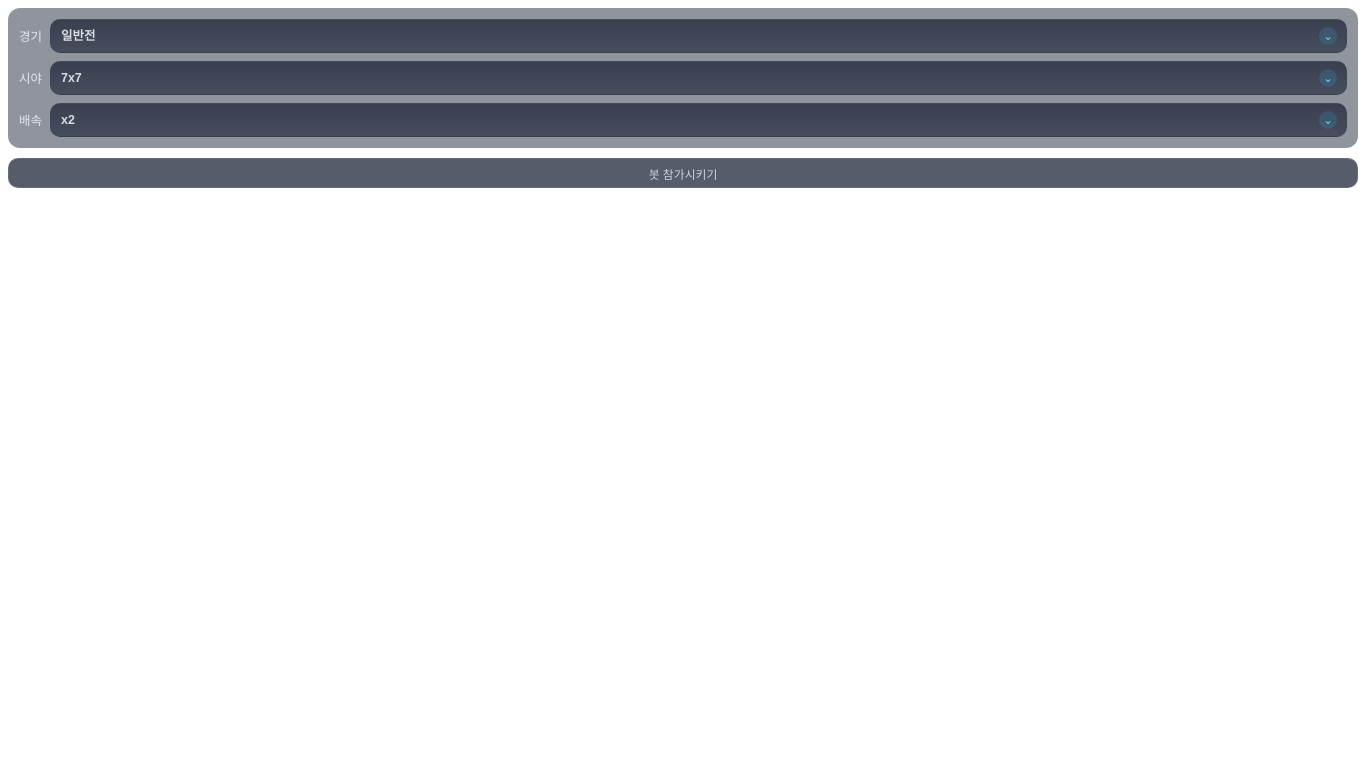
Test: HostControls › uses the spectator nickname as the default bot-name base when provided
Click the button with test id "toggle-bot-panel-button" at (683, 173), box [8,158,1358,188]
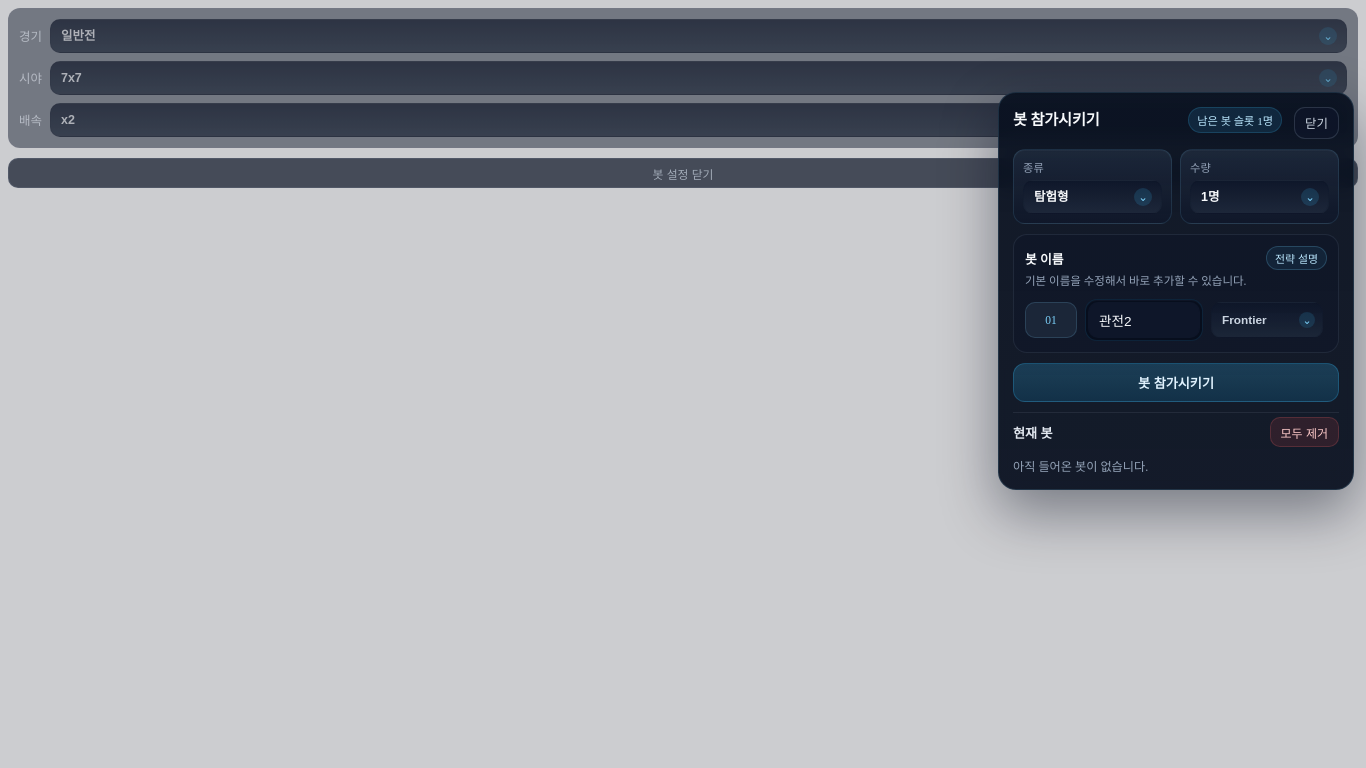
expect the field with test id "bot-name-input-0" holds "관전2": met, box [1088,302,1200,338]
